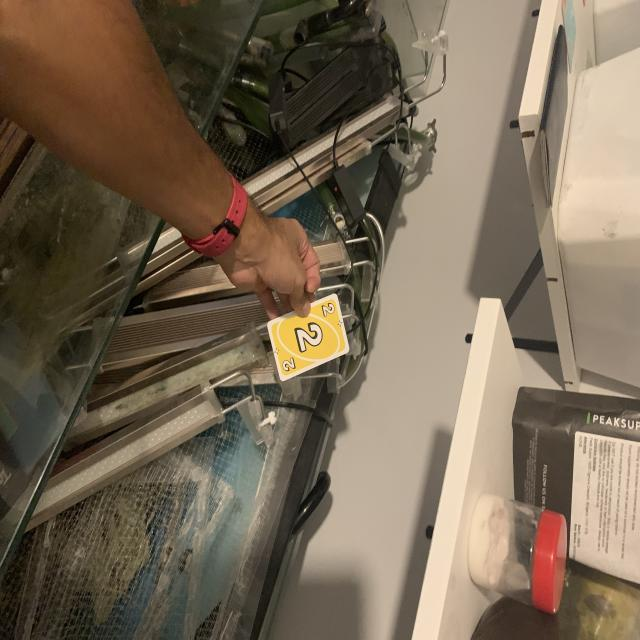lyellow-2: (318, 299, 338, 323)
